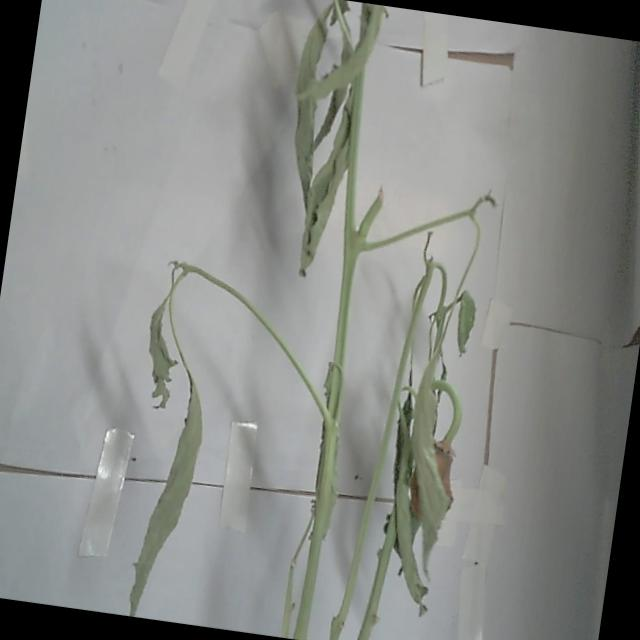Leaf: (124, 354, 211, 623), (388, 334, 474, 588), (294, 82, 360, 275), (137, 274, 190, 410), (292, 0, 337, 111)
